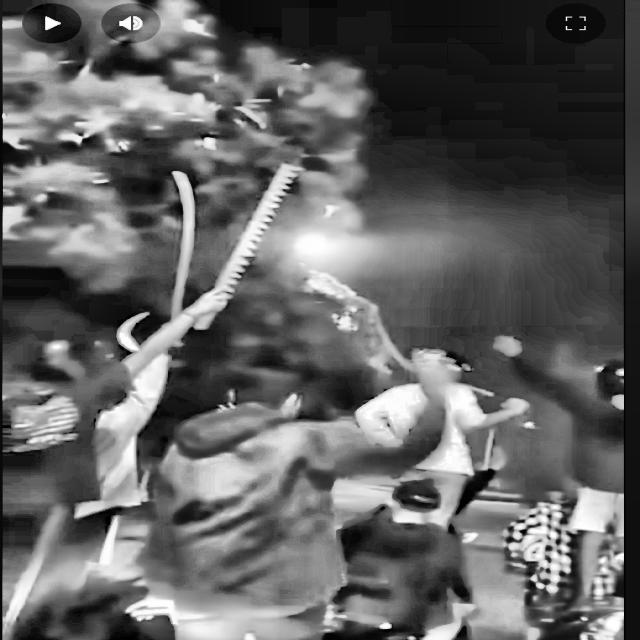celurit: (371, 302, 512, 410), (95, 307, 161, 370)
robbery: (0, 160, 629, 639)
